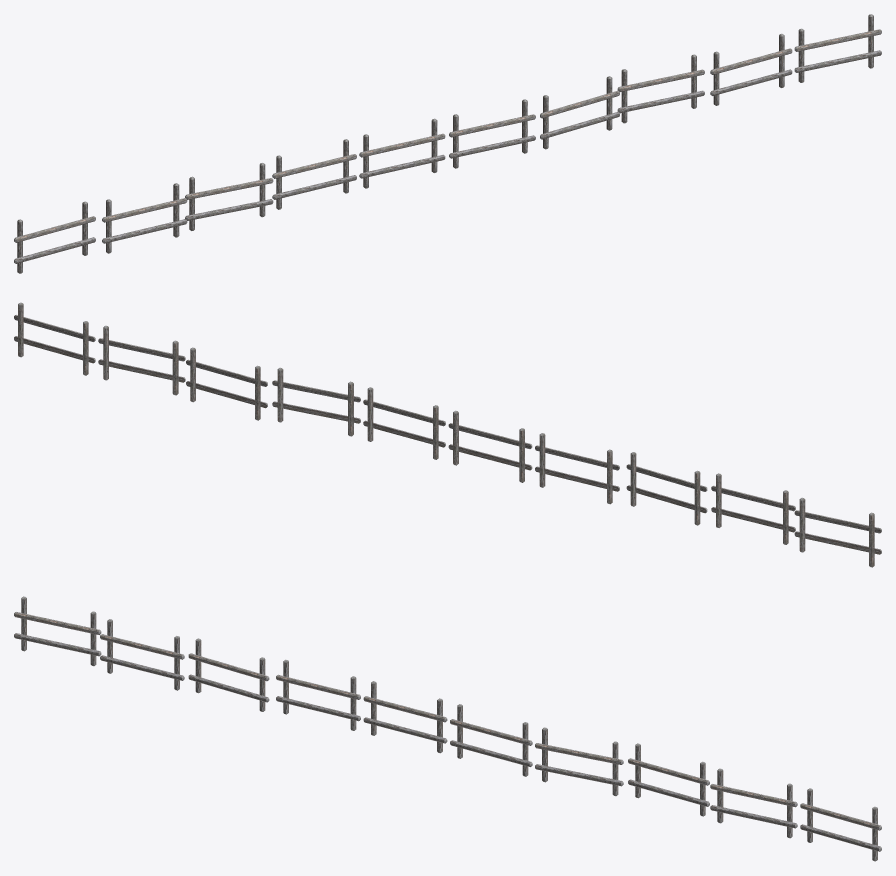
Rendered from Fence10.fbx.
3 renders of one model, top to bottom at view 1: azimuth 30°, elevation 25°; view 2: azimuth 150°, elevation 25°; view 3: azimuth 330°, elevation 25°, orthographic.
Visible parts, largest first — view 1: FENCE.002, FENCE.005, FENCE.007, FENCE.004, FENCE.001, FENCE.009, FENCE.006, FENCE.003, FENCE.008, FENCE; view 2: FENCE.008, FENCE.006, FENCE, FENCE.003, FENCE.002, FENCE.009, FENCE.001, FENCE.004, FENCE.005, FENCE.007; view 3: FENCE.008, FENCE.006, FENCE, FENCE.002, FENCE.003, FENCE.009, FENCE.001, FENCE.004, FENCE.005, FENCE.007.
Boxes of the visible parts, bbox=[...] form: FENCE.002: bbox=[185, 163, 273, 230]; FENCE.005: bbox=[794, 14, 881, 82]; FENCE.007: bbox=[617, 54, 704, 123]; FENCE.004: bbox=[359, 118, 445, 188]; FENCE.001: bbox=[102, 183, 187, 253]; FENCE.009: bbox=[449, 99, 535, 168]; FENCE.006: bbox=[710, 33, 792, 105]; FENCE.003: bbox=[272, 139, 356, 209]; FENCE.008: bbox=[540, 76, 619, 149]; FENCE: bbox=[14, 201, 95, 273]; FENCE.008: bbox=[272, 367, 360, 436]; FENCE.006: bbox=[98, 325, 185, 395]; FENCE: bbox=[794, 497, 881, 567]; FENCE.003: bbox=[535, 433, 619, 504]; FENCE.002: bbox=[626, 452, 707, 525]; FENCE.009: bbox=[363, 387, 445, 459]; FENCE.001: bbox=[711, 473, 795, 544]; FENCE.004: bbox=[448, 410, 532, 482]; FENCE.005: bbox=[14, 302, 95, 375]; FENCE.007: bbox=[186, 347, 267, 420]; FENCE.008: bbox=[535, 727, 623, 796]; FENCE.006: bbox=[710, 768, 797, 838]; FENCE: bbox=[14, 596, 101, 666]; FENCE.002: bbox=[188, 638, 269, 711]; FENCE.003: bbox=[276, 659, 360, 730]; FENCE.009: bbox=[450, 704, 532, 776]; FENCE.001: bbox=[100, 619, 184, 690]; FENCE.004: bbox=[363, 681, 447, 753]; FENCE.005: bbox=[800, 788, 881, 861]; FENCE.007: bbox=[628, 743, 709, 816].
Bounding box in the file's own units: 0.4291 × 1.11 × 18.81.
Materials: 10 (10 with a texture image).
